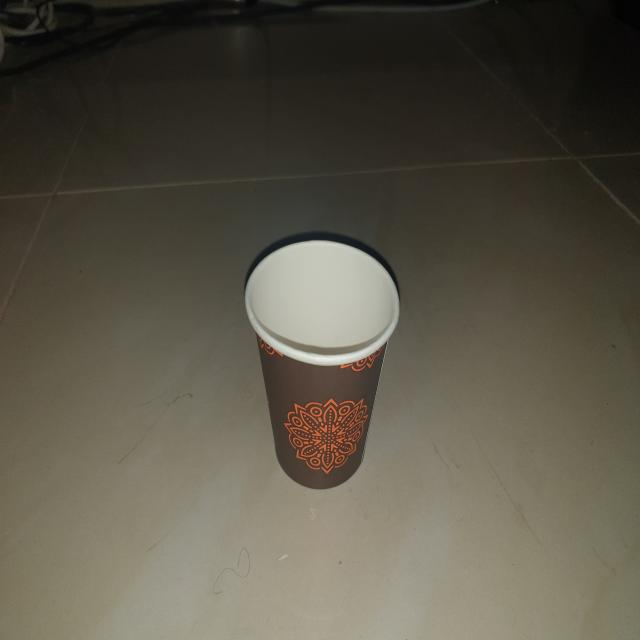cups: (236, 230, 403, 499)
